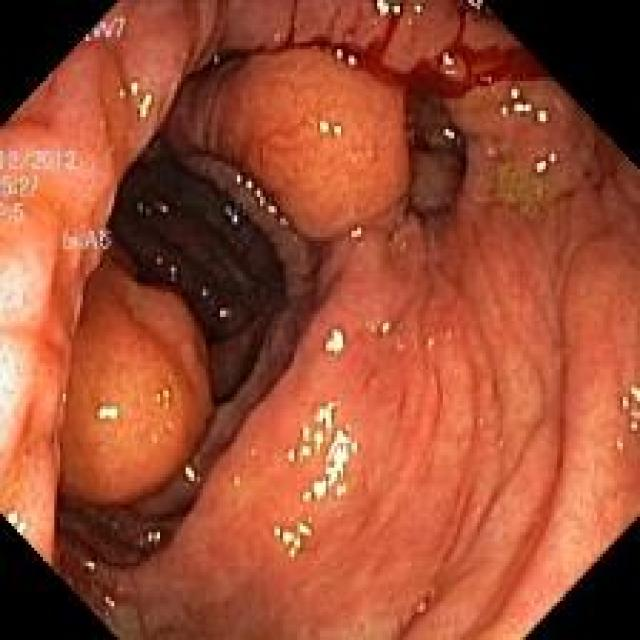Polyps: (162, 47, 410, 240), (60, 246, 214, 506)
